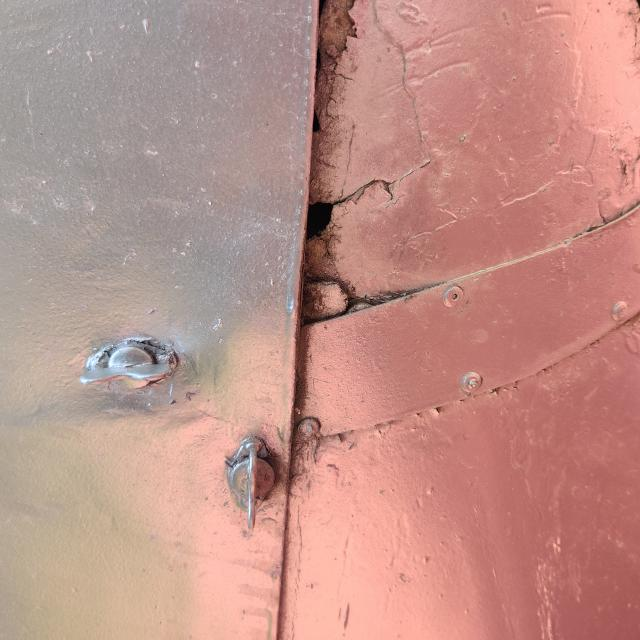crack: (385, 294, 475, 406)
